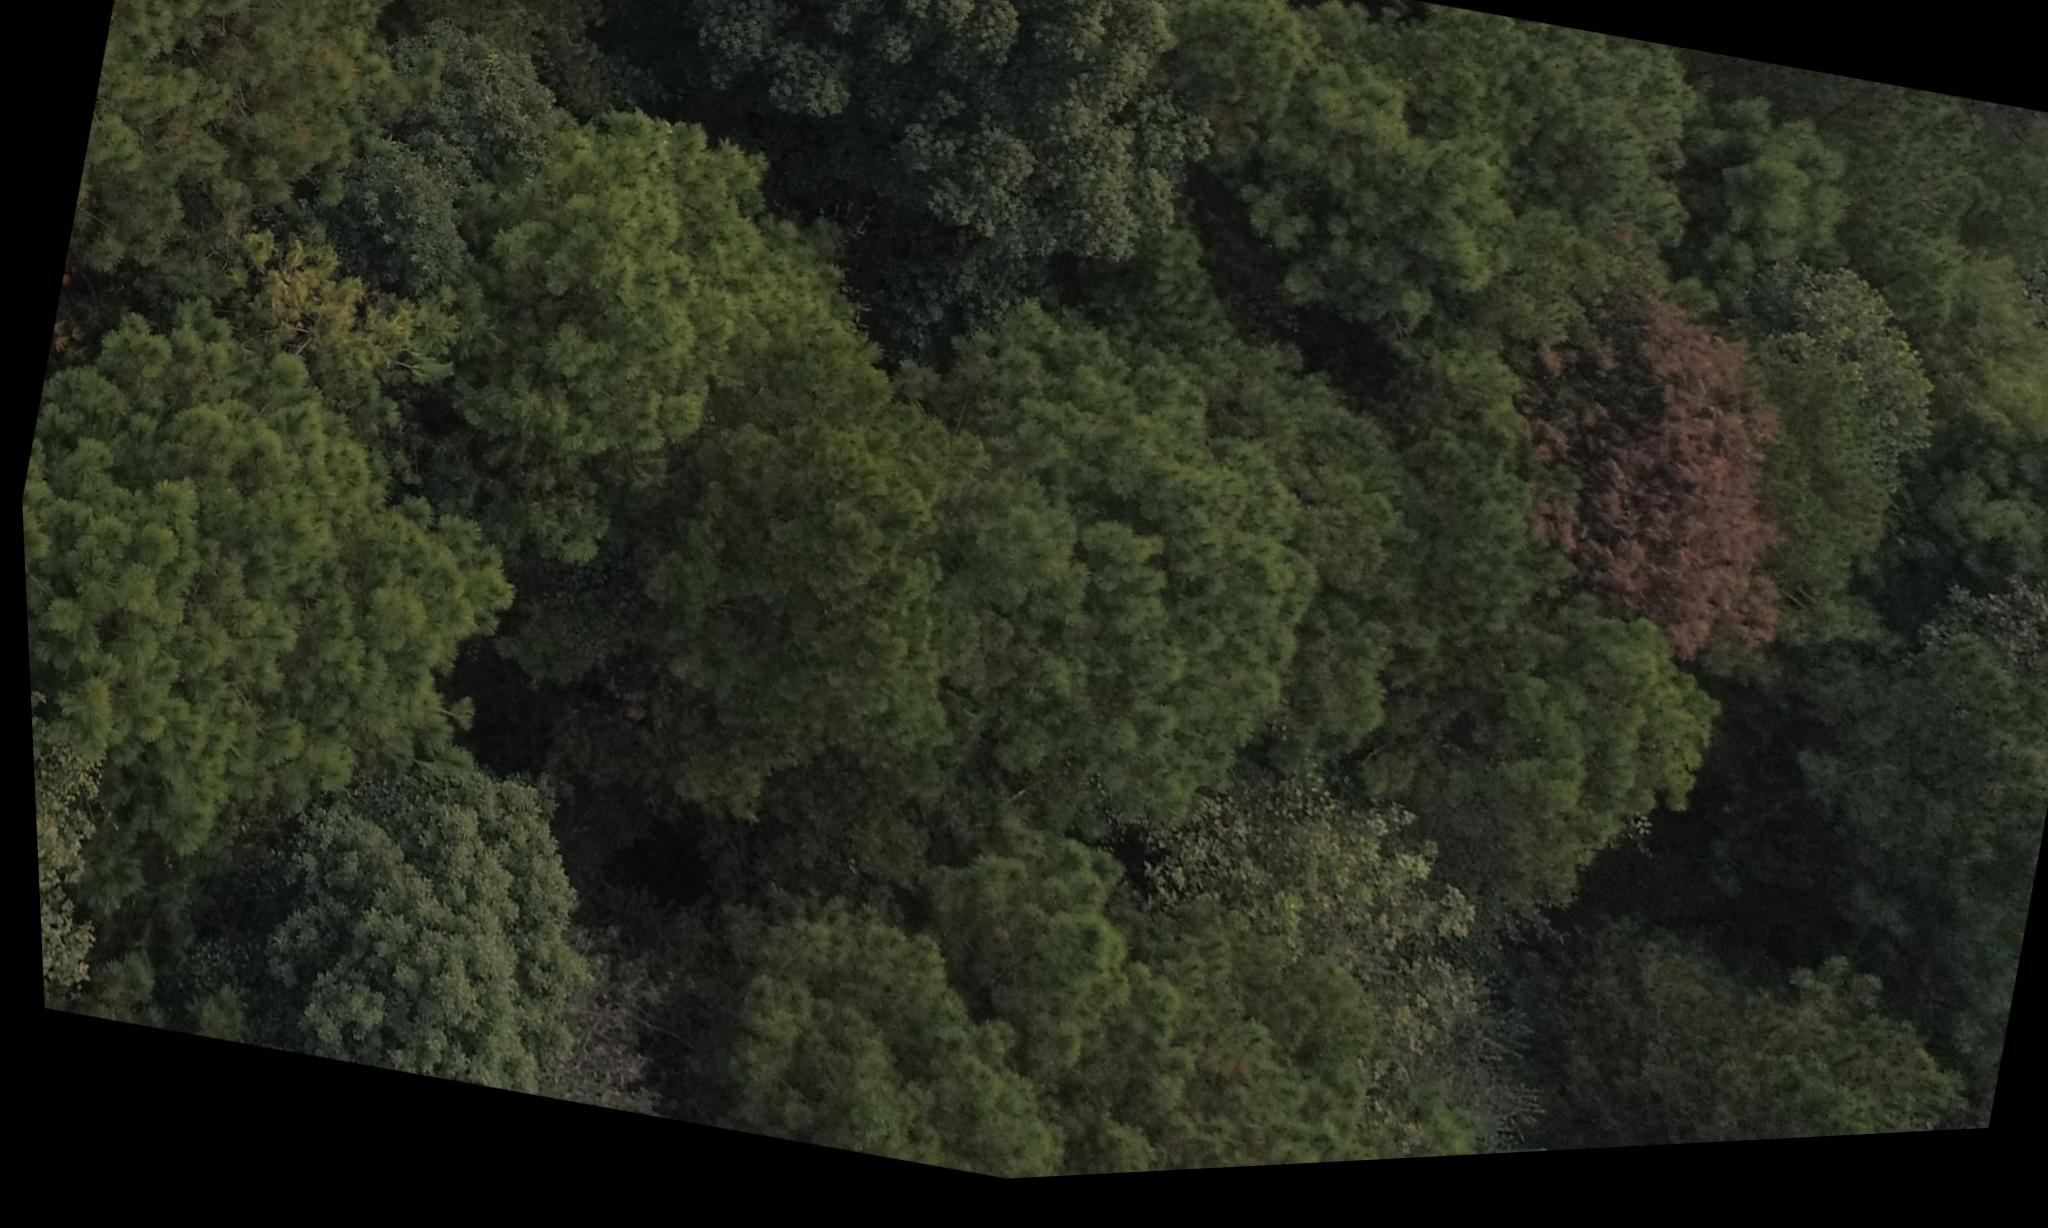heavy: (1471, 278, 1837, 689)
